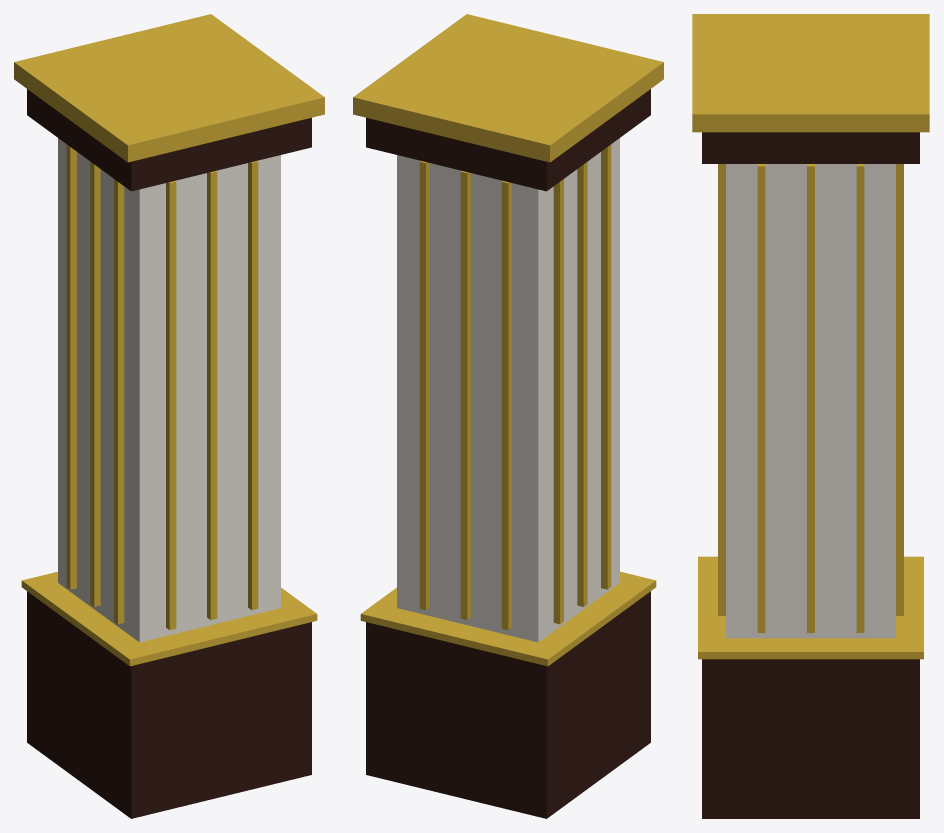
File: HotelLobby_Pillar.obj
The picture shows the model from 3 angles, left to right: view 1: azimuth 30°, elevation 25°; view 2: azimuth 150°, elevation 25°; view 3: azimuth 270°, elevation 25°; orthographic projection. The views are drawn at different scales.
Size of the model in its own units: 1.2 by 3.95 by 1.2.
